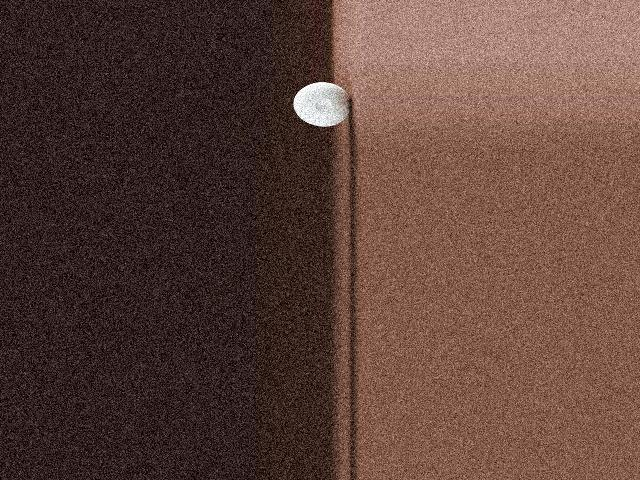egg: (293, 82, 350, 126)
